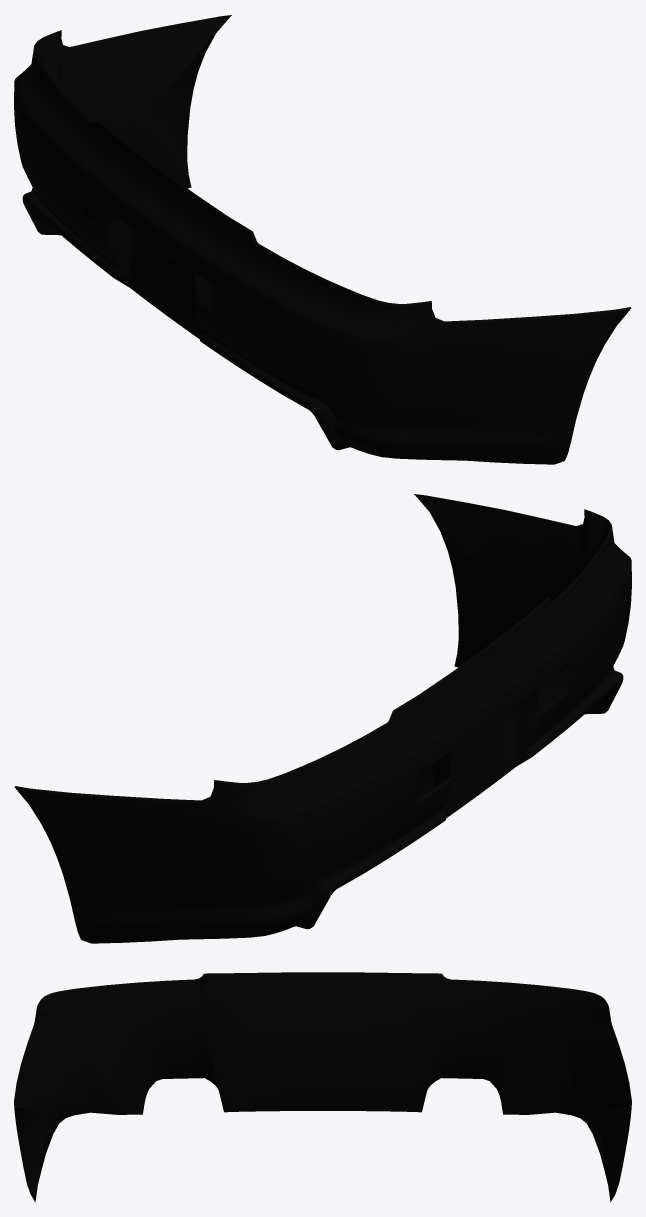
File: gallo99_bumper_rear_gallo99_bodymat_0.004_lev3.glb
3 renders of one model, top to bottom at view 1: azimuth 30°, elevation 25°; view 2: azimuth 150°, elevation 25°; view 3: azimuth 270°, elevation 25°, orthographic. The views are drawn at different scales.
Visible parts, largest first — view 1: gallo99_bumper_rear_gallo99_bodymat_0.004_lev3; view 2: gallo99_bumper_rear_gallo99_bodymat_0.004_lev3; view 3: gallo99_bumper_rear_gallo99_bodymat_0.004_lev3.
Part boxes in pixels (bbox=[...]): gallo99_bumper_rear_gallo99_bodymat_0.004_lev3: bbox=[14, 15, 631, 464]; gallo99_bumper_rear_gallo99_bodymat_0.004_lev3: bbox=[14, 494, 631, 943]; gallo99_bumper_rear_gallo99_bodymat_0.004_lev3: bbox=[14, 972, 631, 1202].
Size of the model in its own units: 0.7404 by 0.4954 by 1.81.
1 material, 1 textured.
